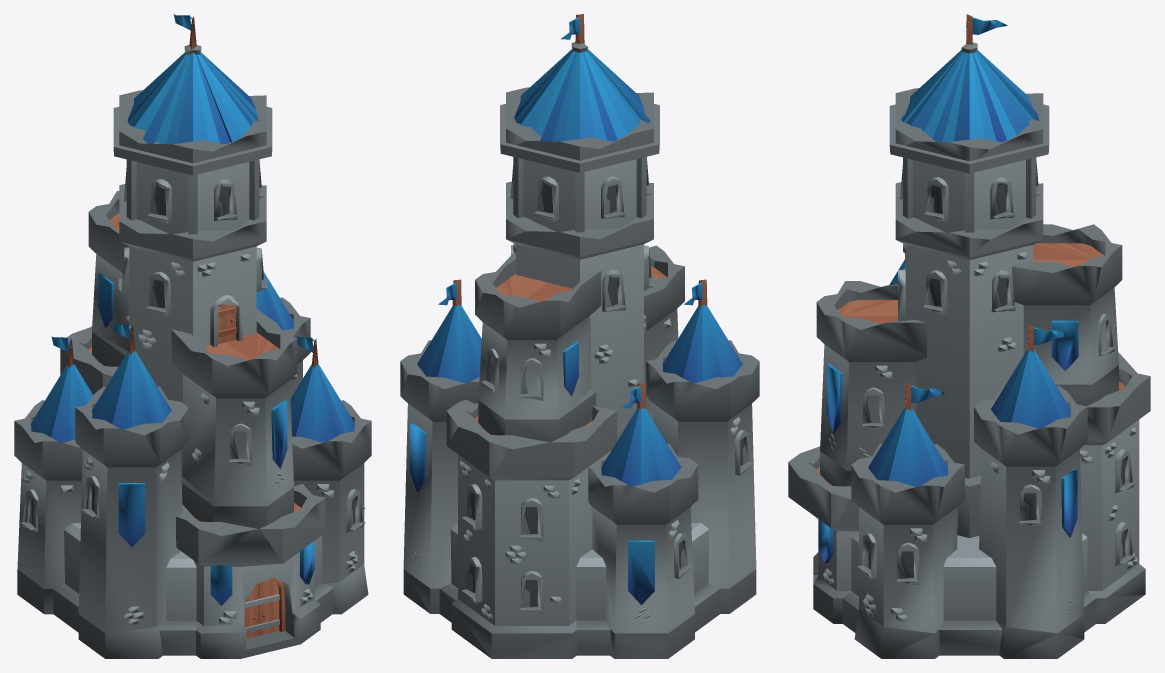
Rendered from tower_blue-mid.glb.
The picture shows the model from 3 angles, left to right: view 1: azimuth 30°, elevation 25°; view 2: azimuth 150°, elevation 25°; view 3: azimuth 270°, elevation 25°; orthographic projection.
Parts seen in each view (by area): view 1: building_castle_blue; view 2: building_castle_blue; view 3: building_castle_blue.
Boxes of the visible parts, x1,y1,x2,y2 form: building_castle_blue: (14,14,371,658); building_castle_blue: (400,14,759,658); building_castle_blue: (788,14,1150,658).
Size of the model in its own units: 1.98 by 3.98 by 2.26.
Materials: 1 (1 with a texture image).
